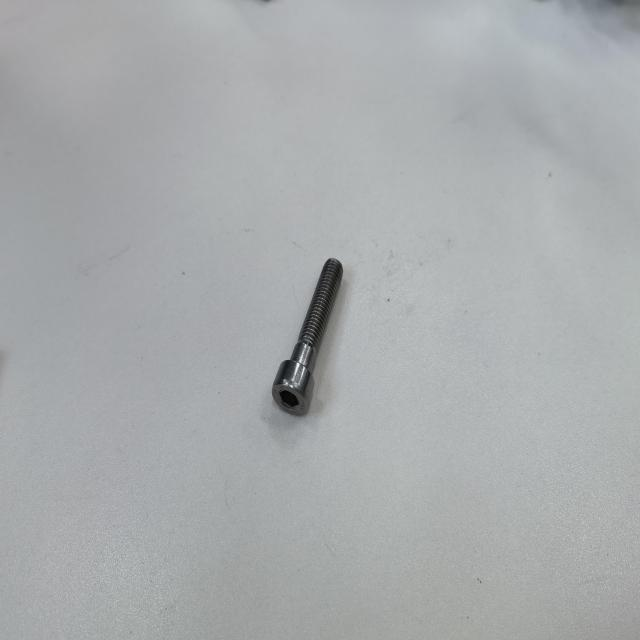screws: (261, 250, 347, 428)
